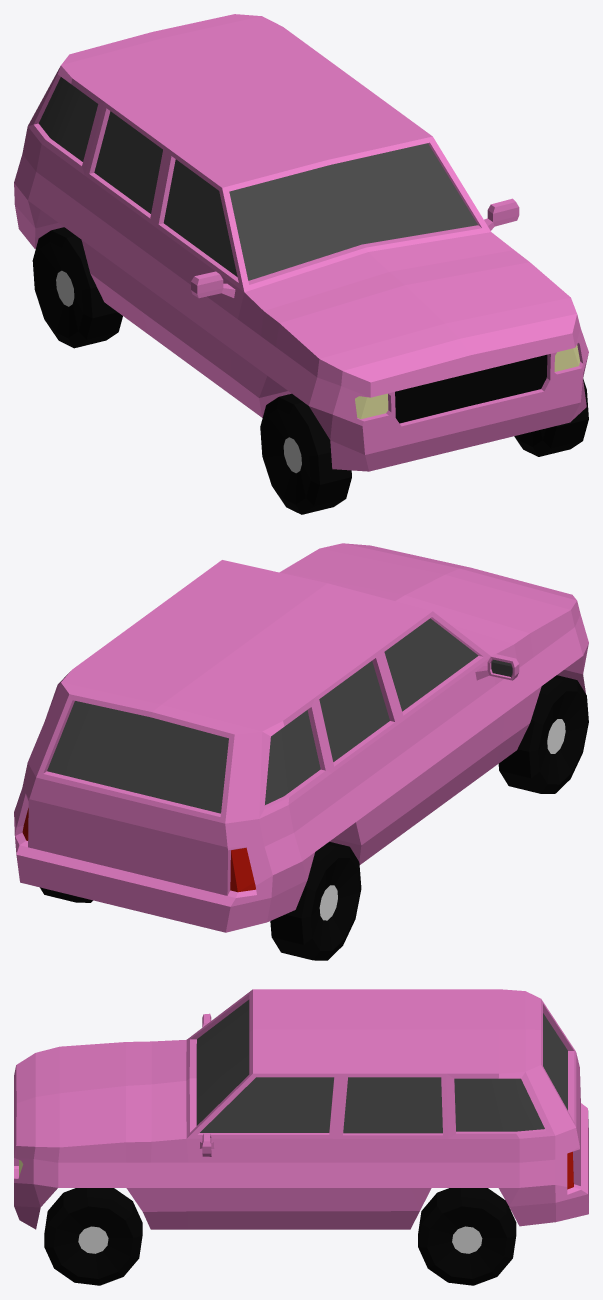
File: 6pink.fbx
The picture shows the model from 3 angles, top to bottom: view 1: azimuth 30°, elevation 25°; view 2: azimuth 150°, elevation 25°; view 3: azimuth 270°, elevation 25°; orthographic projection. The views are drawn at different scales.
Parts seen in each view (by area): view 1: Cube.001; view 2: Cube.001; view 3: Cube.001.
Part boxes in pixels (<box>): Cube.001: <box>14,14,588,514</box>; Cube.001: <box>14,543,588,960</box>; Cube.001: <box>14,989,588,1285</box>.
Size of the model in its own units: 128 by 93.04 by 240.
